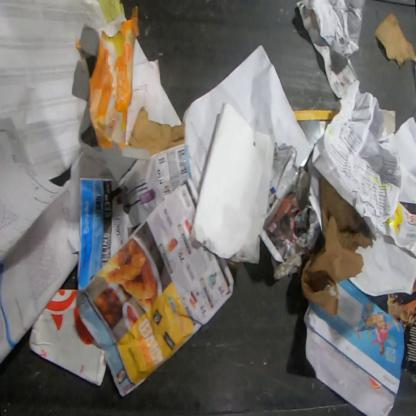cardboard: (77, 4, 150, 199), (297, 171, 376, 318), (28, 288, 108, 387), (126, 106, 186, 158), (373, 12, 416, 69), (292, 109, 339, 158), (381, 108, 396, 137)
